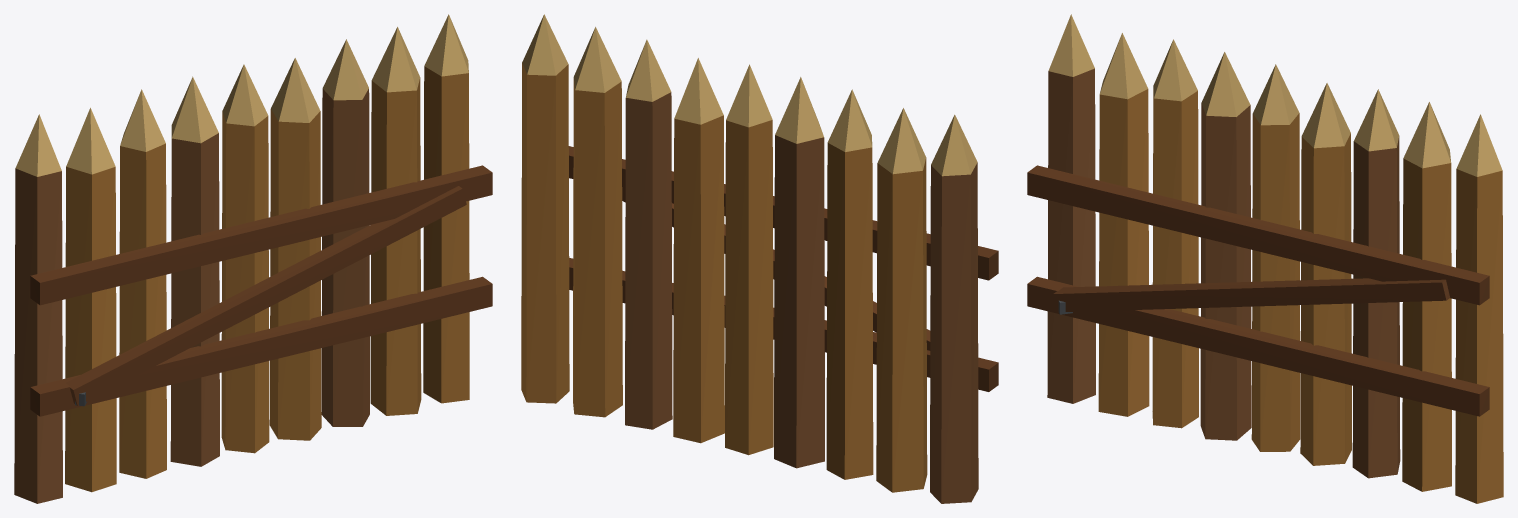
3 renders of one model, left to right at view 1: azimuth 30°, elevation 25°; view 2: azimuth 150°, elevation 25°; view 3: azimuth 330°, elevation 25°, orthographic.
Visible parts, largest first — view 1: WK_W02_LOD2_Compact; view 2: WK_W02_LOD2_Compact; view 3: WK_W02_LOD2_Compact.
Boxes of the visible parts, x1,y1,x2,y2 form: WK_W02_LOD2_Compact: (14, 14, 492, 503); WK_W02_LOD2_Compact: (521, 14, 998, 503); WK_W02_LOD2_Compact: (1027, 14, 1503, 503).
Size of the model in its own units: 4 by 3.2 by 0.65.
